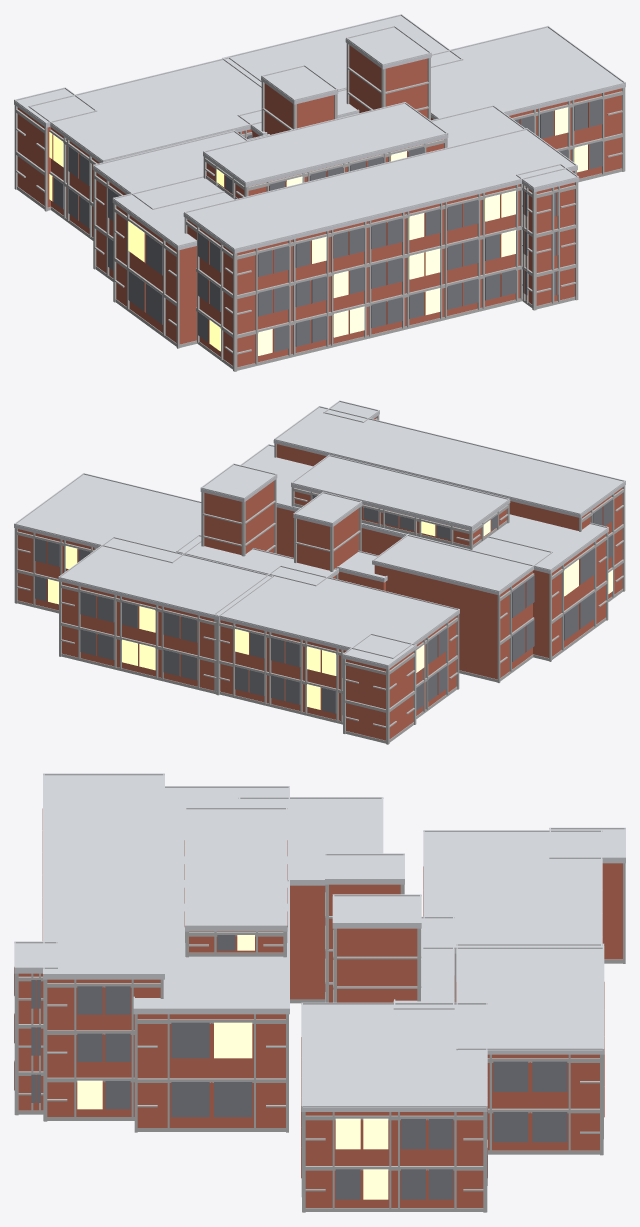
The model's file is majmua.glb.
The picture shows the model from 3 angles, top to bottom: view 1: azimuth 30°, elevation 25°; view 2: azimuth 150°, elevation 25°; view 3: azimuth 270°, elevation 25°; orthographic projection. The views are drawn at different scales.
Visible parts, largest first — view 1: Central_bridge_thin_long_roof_rim, Central_bridge_B_mullion, Central_bridge_B_corner_pier, Central_bridge_B_floor_1_bay_2_pane_1, Central_bridge_B_floor_1_bay_1_pane_1; view 2: Central_bridge_thin_long_roof_rim, Central_bridge_B_mullion, Central_bridge_B_corner_pier, Central_bridge_B_floor_1_bay_2_pane_1, Central_bridge_B_floor_1_bay_1_pane_1; view 3: Central_bridge_thin_long_roof_rim, Central_bridge_B_mullion, Central_bridge_B_corner_pier, Central_bridge_B_floor_1_bay_2_pane_1, Central_bridge_B_floor_1_bay_1_pane_1.
Boxes of the visible parts, <box> form: Central_bridge_thin_long_roof_rim: <box>14,14,625,253</box>; Central_bridge_B_mullion: <box>17,45,621,367</box>; Central_bridge_B_corner_pier: <box>14,43,625,371</box>; Central_bridge_B_floor_1_bay_2_pane_1: <box>53,99,602,351</box>; Central_bridge_B_floor_1_bay_1_pane_1: <box>49,107,587,355</box>; Central_bridge_thin_long_roof_rim: <box>14,400,625,669</box>; Central_bridge_B_mullion: <box>17,417,622,740</box>; Central_bridge_B_corner_pier: <box>14,415,625,744</box>; Central_bridge_B_floor_1_bay_2_pane_1: <box>35,494,612,714</box>; Central_bridge_B_floor_1_bay_1_pane_1: <box>48,520,612,709</box>; Central_bridge_thin_long_roof_rim: <box>14,773,625,1111</box>; Central_bridge_B_mullion: <box>14,808,622,1207</box>; Central_bridge_B_corner_pier: <box>14,863,625,1212</box>; Central_bridge_B_floor_1_bay_2_pane_1: <box>14,935,567,1199</box>; Central_bridge_B_floor_1_bay_1_pane_1: <box>77,935,487,1199</box>.
Bounding box in the file's own units: 41.24 × 11.66 × 35.17.
